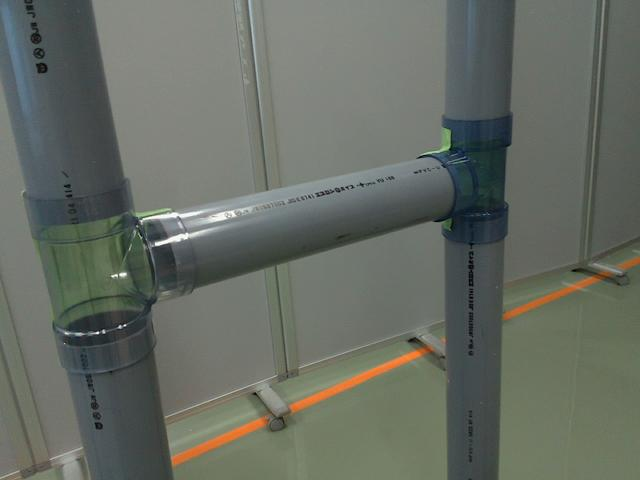junction: (26, 182, 194, 383), (416, 117, 514, 245)
